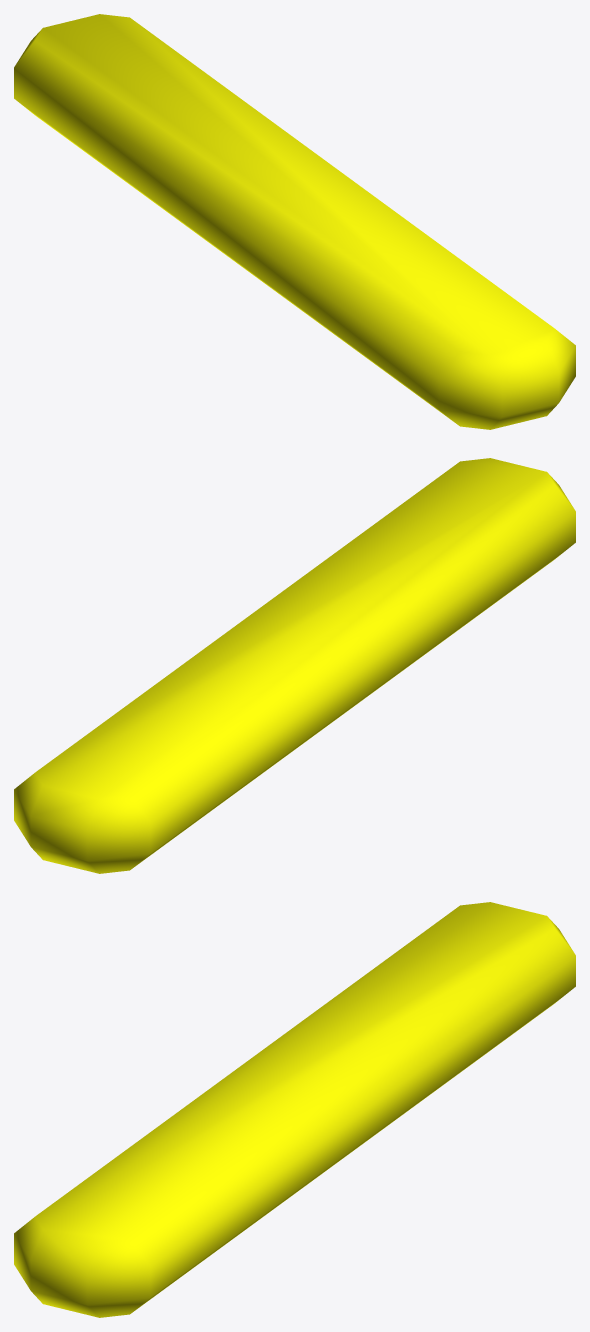
File: arm.bbox.gltf
3 renders of one model, top to bottom at view 1: azimuth 30°, elevation 25°; view 2: azimuth 150°, elevation 25°; view 3: azimuth 330°, elevation 25°, orthographic.
Visible parts, largest first — view 1: arm.bbox; view 2: arm.bbox; view 3: arm.bbox.
Part boxes in pixels (left/top/right/bottom): arm.bbox: left=14, top=14, right=575, bottom=429; arm.bbox: left=14, top=458, right=575, bottom=873; arm.bbox: left=14, top=902, right=575, bottom=1317.
Bounding box in the file's own units: 0.0825 × 0.043 × 0.4925.
